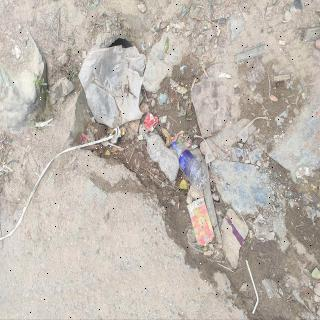Plastic-bottle: (171, 140, 213, 194), (143, 131, 181, 186)
